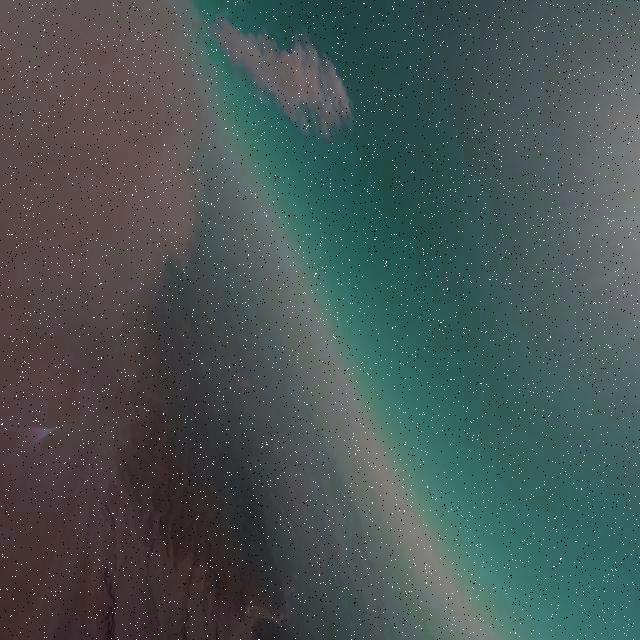Plume: (0, 0, 211, 439), (217, 11, 349, 140)
